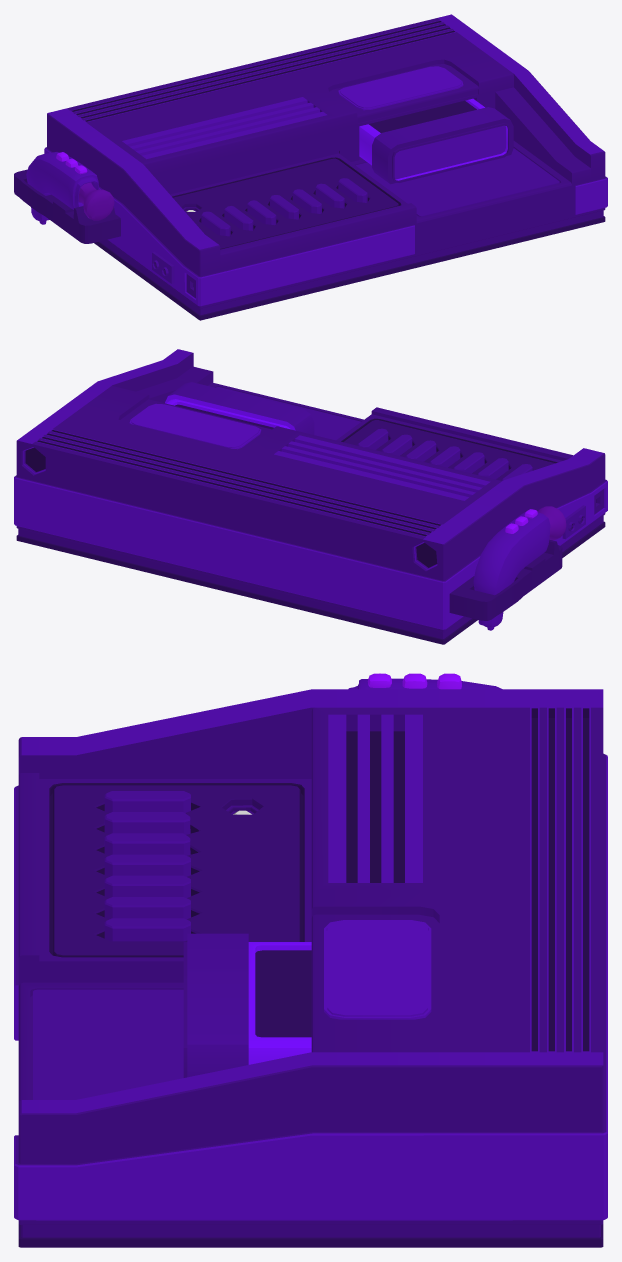
The model's file is Fairchild Channel F.gltf.
3 views of the same model, one above another, from view 1: azimuth 30°, elevation 25°; view 2: azimuth 150°, elevation 25°; view 3: azimuth 270°, elevation 25° (orthographic). The views are drawn at different scales.
Parts seen in each view (by area): view 1: FairchildChannelF, FairchildChannelF_cartridge, FairchildChannelF_controller; view 2: FairchildChannelF, FairchildChannelF_controller, FairchildChannelF_cartridge; view 3: FairchildChannelF, FairchildChannelF_cartridge, FairchildChannelF_controller.
Boxes of the visible parts, x1,y1,x2,y2 form: FairchildChannelF: (14, 14, 607, 320); FairchildChannelF_cartridge: (359, 98, 513, 184); FairchildChannelF_controller: (26, 152, 114, 224); FairchildChannelF: (14, 349, 607, 644); FairchildChannelF_controller: (473, 506, 566, 630); FairchildChannelF_cartridge: (165, 382, 314, 434); FairchildChannelF: (14, 689, 607, 1247); FairchildChannelF_cartridge: (183, 933, 311, 1077); FairchildChannelF_controller: (348, 673, 502, 689).
Bounding box in the file's own units: 0.7381 × 0.15 × 0.4451.
Materials: 3 (2 with a texture image).
